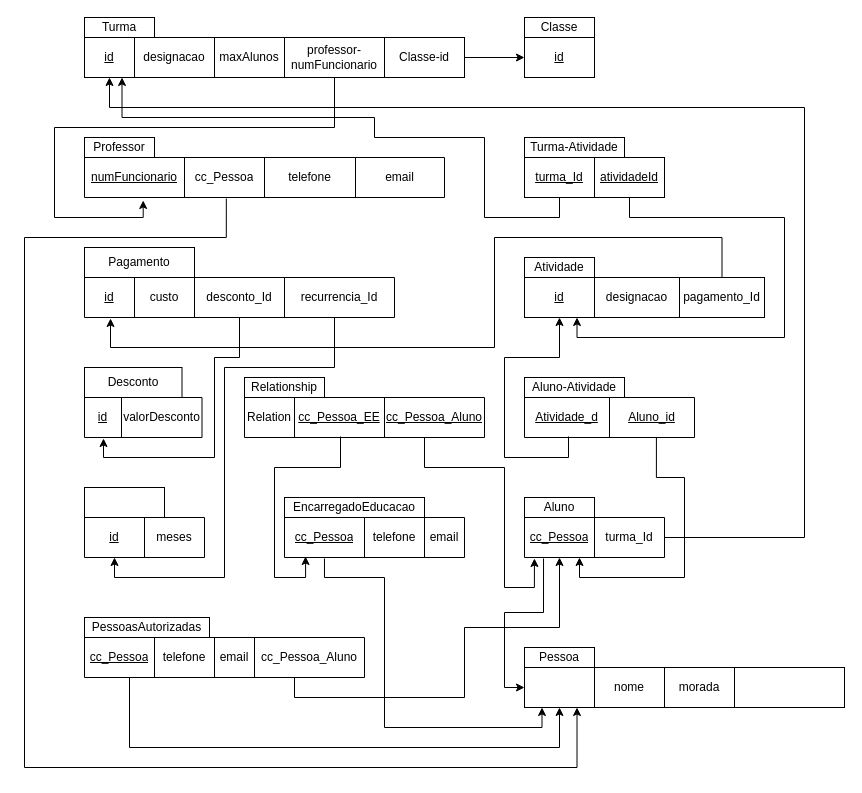
Image size: 862x793. Some labels were removed from this diagram. The centre of each missing label's shape, as x and y in pixels:
"cc" goes at pixel 559 687.
"dataNascimento" goes at pixel 789 687.
"Recurrencia" goes at pixel 124 502.
